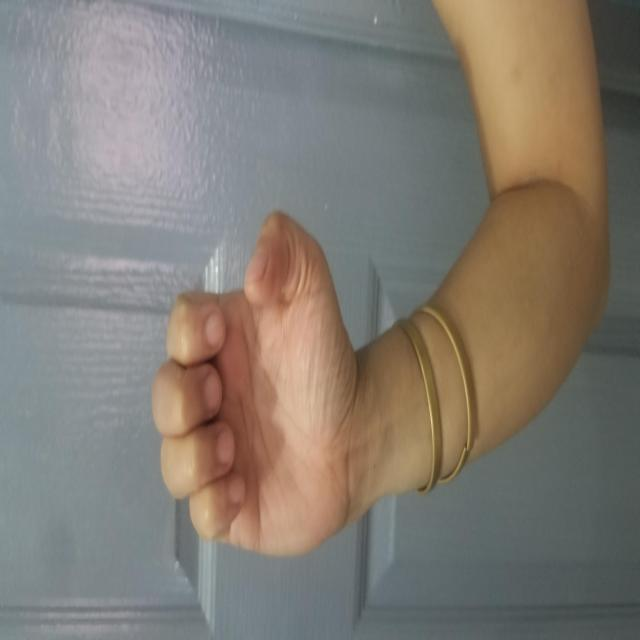E: (85, 151, 426, 346)
